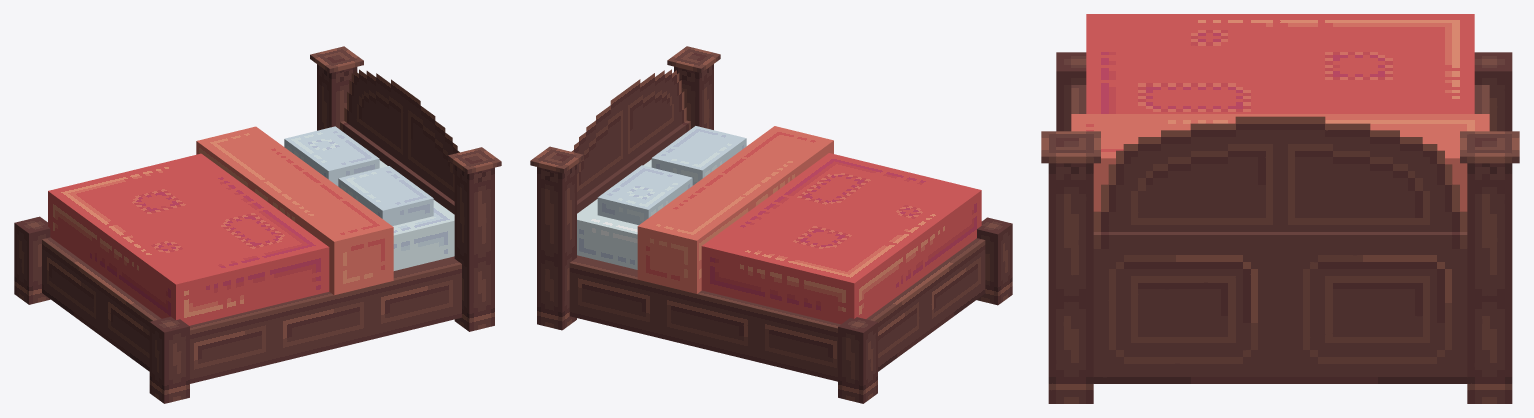
File: antique_bed.glb
3 renders of one model, left to right at view 1: azimuth 30°, elevation 25°; view 2: azimuth 150°, elevation 25°; view 3: azimuth 270°, elevation 25°, orthographic. The views are drawn at different scales.
Parts seen in each view (by area): view 1: cube_4, cube_2, cube_8, cube_0, cube_11, cube_13, cube_7, cube_9, cube_3, cube_5, cube_6, cube_1 (+2 smaller); view 2: cube_4, cube_2, cube_8, cube_0, cube_6, cube_9, cube_5, cube_13, cube_3, cube_7, cube_11, cube_1 (+2 smaller); view 3: cube_4, cube_0, cube_2, cube_1, cube_6, cube_11, cube_8, cube_5, cube_10, cube_12, cube_7.
Part boxes in pixels (box(x1,y1,x2,y2)): cube_4: box(48, 153, 329, 325); cube_2: box(42, 237, 461, 383); cube_8: box(196, 126, 393, 295); cube_0: box(344, 69, 459, 201); cube_11: box(454, 165, 494, 331); cube_13: box(338, 166, 433, 225); cube_7: box(149, 316, 189, 403); cube_9: box(284, 126, 379, 186); cube_3: box(379, 160, 454, 270); cube_5: box(14, 216, 50, 304); cube_6: box(317, 64, 357, 130); cube_1: box(340, 121, 454, 214); cube_4: box(701, 153, 981, 324); cube_2: box(569, 238, 985, 381); cube_8: box(637, 126, 833, 293); cube_0: box(571, 69, 686, 200); cube_6: box(537, 164, 576, 330); cube_9: box(597, 165, 692, 225); cube_5: box(838, 317, 877, 403); cube_13: box(651, 126, 746, 185); cube_3: box(577, 159, 651, 269); cube_7: box(977, 217, 1012, 305); cube_11: box(674, 64, 713, 129); cube_1: box(577, 120, 690, 213); cube_4: box(1086, 14, 1474, 113); cube_0: box(1093, 116, 1467, 231); cube_2: box(1071, 85, 1489, 383); cube_1: box(1093, 232, 1467, 302); cube_6: box(1467, 163, 1512, 403); cube_11: box(1048, 163, 1093, 403); cube_8: box(1071, 114, 1489, 211); cube_5: box(1474, 52, 1512, 131); cube_10: box(1460, 131, 1519, 163); cube_12: box(1041, 131, 1100, 163); cube_7: box(1056, 52, 1086, 131).
Bounding box in the file's own units: 2.44 × 1.5 × 2.
1 material, 1 textured.
